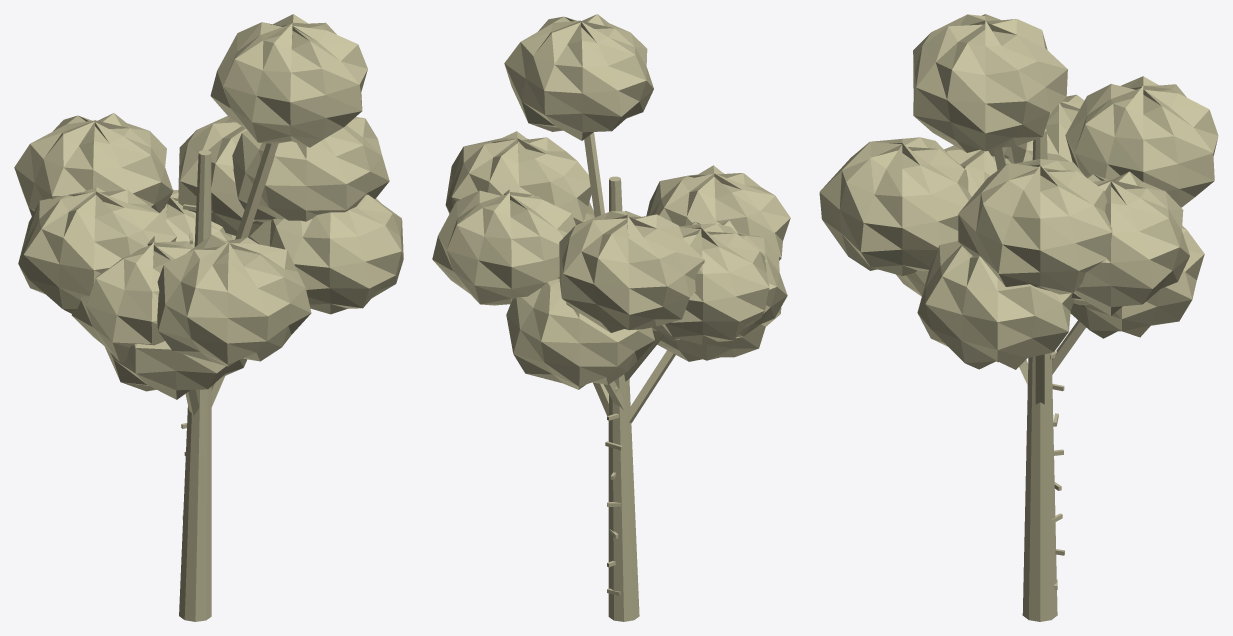
File: Birch.obj
3 renders of one model, left to right at view 1: azimuth 30°, elevation 25°; view 2: azimuth 150°, elevation 25°; view 3: azimuth 270°, elevation 25°, orthographic. The views are drawn at different scales.
Visible parts, largest first — view 1: leaflight, birch; view 2: leaflight, birch; view 3: leaflight, birch.
Part boxes in pixels (x1,y1,x2,y2): leaflight: [14, 14, 403, 399]; birch: [179, 143, 278, 621]; leaflight: [432, 14, 790, 389]; birch: [584, 132, 675, 621]; leaflight: [819, 14, 1218, 369]; birch: [993, 128, 1085, 621].
Size of the model in its own units: 4.38 by 7.1 by 4.06.
